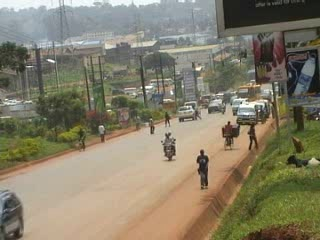Car: (0, 184, 27, 240), (174, 104, 197, 123), (205, 99, 220, 114)
Motorcycle: (159, 129, 177, 161), (218, 99, 226, 114)
